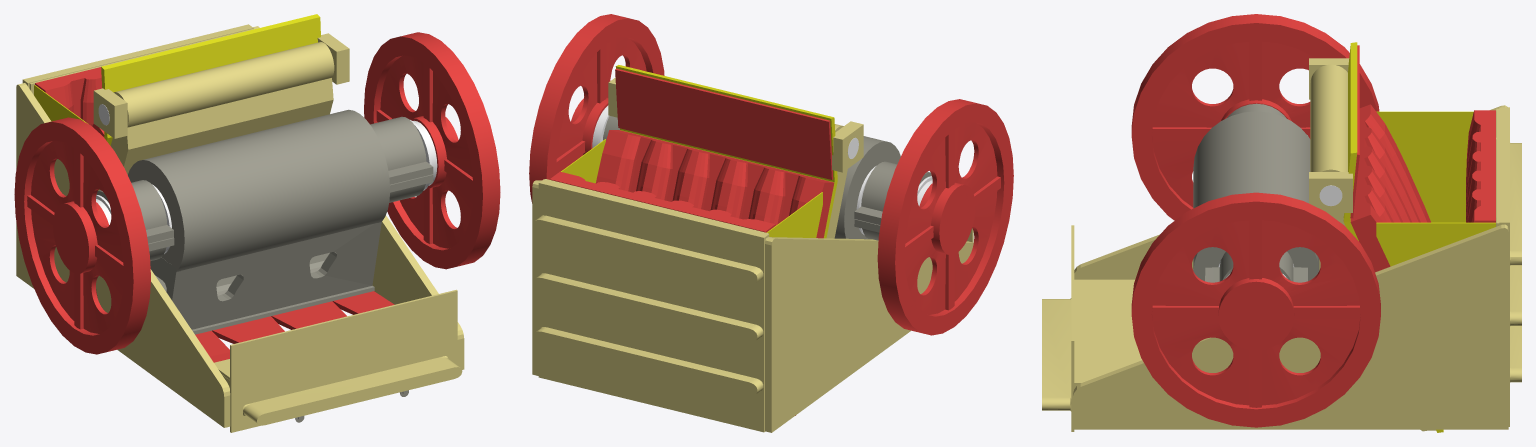
Rendered from molinoMandibula.glb.
3 views of the same model, side by side, from view 1: azimuth 30°, elevation 25°; view 2: azimuth 150°, elevation 25°; view 3: azimuth 270°, elevation 25° (orthographic). The views are drawn at different scales.
Visible parts, largest first — view 1: Base, rueda2, base, rueda1, placa2, cilindro externo, placa base, placa externa, flexor2, placa1, prensa1, Placa de mandibula fija (+6 smaller); view 2: Placa externa, rueda2, placa2, placa superior, Placa de mandibula movil, rueda1, Base, Placa de mandibula fija, placa externa, prensa2, lateral derecha, placa1 (+4 smaller); view 3: rueda1, placa1, rueda2, Base, base, lateral derecha, Placa de mandibula movil, Placa externa, cilindro externo, Placa de mandibula fija, lateral izquierda, placa2 (+6 smaller).
Part boxes in pixels (bbox=[...]): Base: bbox=[128, 109, 390, 334]; rueda2: bbox=[14, 117, 150, 354]; base: bbox=[214, 289, 462, 432]; rueda1: bbox=[364, 32, 500, 269]; placa2: bbox=[16, 83, 230, 427]; cilindro externo: bbox=[113, 42, 334, 127]; placa base: bbox=[99, 78, 333, 190]; placa externa: bbox=[98, 14, 320, 190]; flexor2: bbox=[195, 291, 394, 362]; placa1: bbox=[253, 26, 464, 369]; prensa1: bbox=[370, 116, 433, 202]; Placa de mandibula fija: bbox=[35, 67, 102, 125]; Placa externa: bbox=[533, 179, 769, 432]; rueda2: bbox=[877, 99, 1013, 335]; placa2: bbox=[765, 237, 973, 432]; placa superior: bbox=[615, 68, 833, 179]; Placa de mandibula movil: bbox=[595, 130, 834, 415]; rueda1: bbox=[529, 14, 664, 203]; Base: bbox=[834, 136, 900, 239]; Placa de mandibula fija: bbox=[549, 171, 775, 232]; placa externa: bbox=[615, 65, 837, 238]; prensa2: bbox=[854, 161, 931, 240]; lateral derecha: bbox=[766, 192, 822, 237]; placa1: bbox=[532, 180, 541, 375]; rueda1: bbox=[1131, 192, 1380, 427]; placa1: bbox=[1073, 224, 1508, 429]; rueda2: bbox=[1131, 14, 1379, 220]; Base: bbox=[1193, 111, 1319, 281]; base: bbox=[1042, 225, 1141, 431]; lateral derecha: bbox=[1376, 111, 1473, 222]; Placa de mandibula movil: bbox=[1350, 104, 1430, 272]; Placa externa: bbox=[1499, 107, 1521, 426]; cilindro externo: bbox=[1310, 64, 1347, 171]; Placa de mandibula fija: bbox=[1466, 110, 1495, 222]; lateral izquierda: bbox=[1376, 222, 1495, 266]; placa2: bbox=[1074, 105, 1507, 279].
Bounding box in the file's own units: 3.61 × 2.49 × 3.85.
